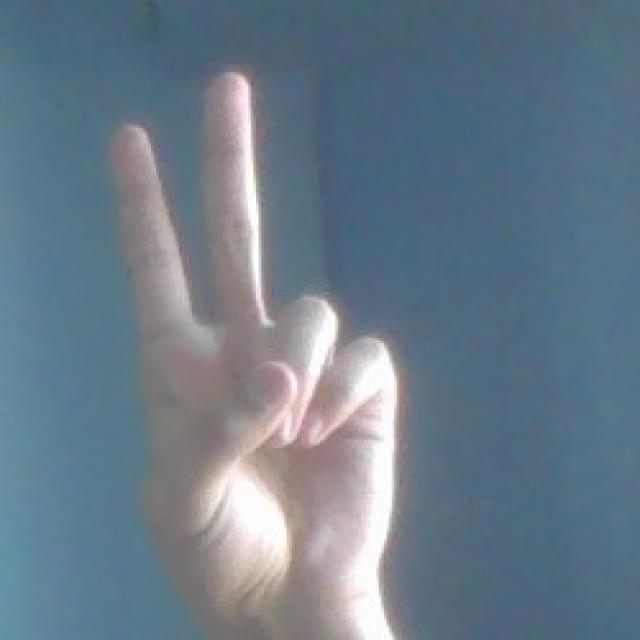Numeric-2: (97, 64, 395, 624)
